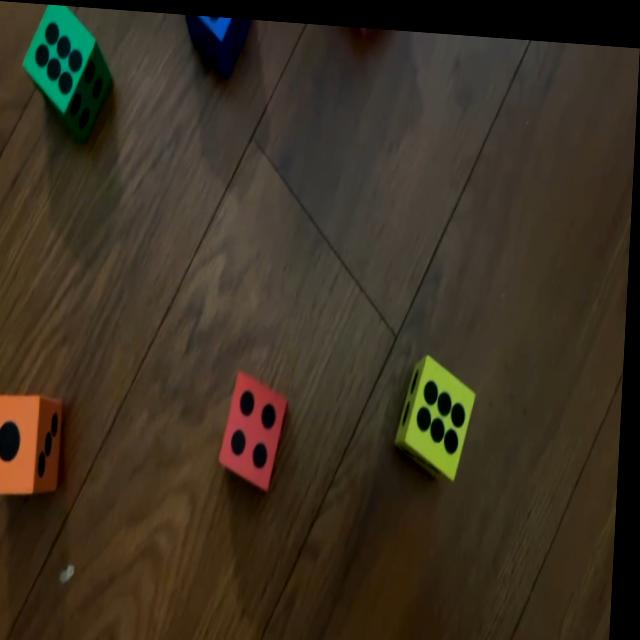blue_block: (181, 11, 248, 73)
red_block: (224, 365, 293, 487)
